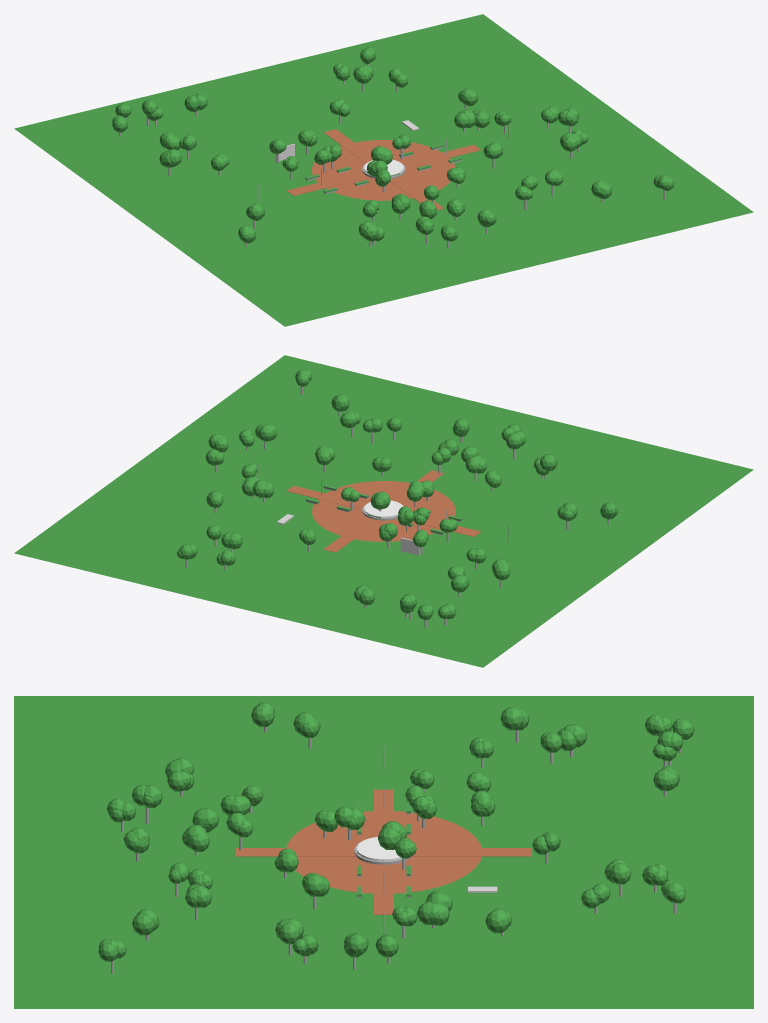
Rendered from park.glb.
The picture shows the model from 3 angles, top to bottom: view 1: azimuth 30°, elevation 25°; view 2: azimuth 150°, elevation 25°; view 3: azimuth 270°, elevation 25°; orthographic projection. The views are drawn at different scales.
Visible parts, largest first — view 1: Plane, Circle, Cube, Cube.001; view 2: Plane, Circle, Cube.001, Cube; view 3: Plane, Circle, Cube.001, Cube, Cylinder.001.
Boxes of the visible parts, x1,y1,x2,y2 form: Plane: (14,14,753,326); Circle: (312,140,455,200); Cube: (286,145,480,195); Cube.001: (323,129,443,210); Plane: (14,355,753,667); Circle: (312,481,455,541); Cube.001: (324,470,444,552); Cube: (287,486,481,536); Plane: (14,696,753,1008); Circle: (286,811,481,893); Cube.001: (236,848,531,856); Cube: (374,789,393,914); Cylinder.001: (357,837,401,861).
Size of the model in its own units: 150 by 8.26 by 150.
